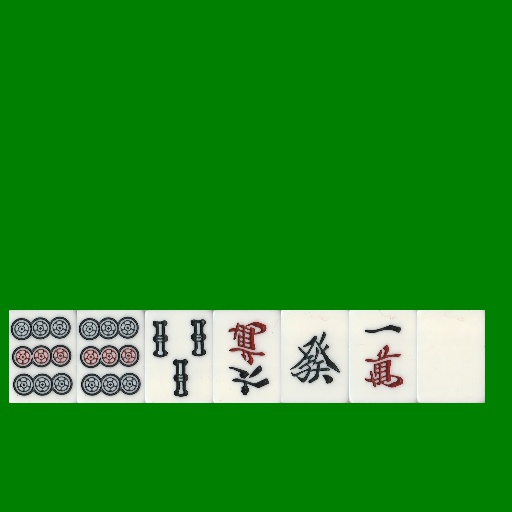1m: (349, 310, 417, 403)
3s: (145, 310, 213, 403)
6m: (213, 310, 281, 403)
9p: (9, 310, 77, 403), (77, 310, 145, 403)
hatsu: (281, 310, 349, 403)
white: (417, 310, 485, 403)
